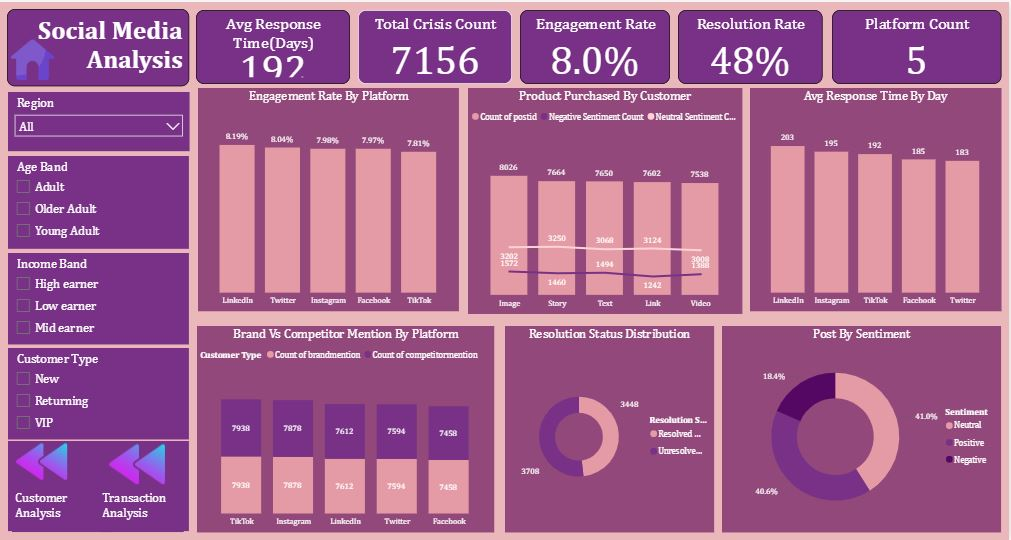

What the dashboard file says about the page in this screenshot:
{"tool":"powerbi","page":{"name":"Social Media Analysis Dashboard","canvas":[1500,800],"ordinal":3},"visuals":[{"type":"card","title":"Avg Response Time(Days)","fields":{"Values":["New Measures.Avg Response Days"]},"box":[291.9,11.3,229,109.7],"z":0},{"type":"card","title":"Total Crisis Count","fields":{"Values":["New Measures.Total Crisis Count"]},"box":[532.3,11.3,229,109.7],"z":1000},{"type":"card","title":"Engagement Rate","fields":{"Values":["New Measures.Engagement Rate"]},"box":[772.6,11.3,222.6,109.7],"z":2000},{"type":"card","title":"Resolution Rate","fields":{"Values":["New Measures.Crisis Resolution Rate %"]},"box":[1008.1,11.3,214.5,109.7],"z":3000},{"type":"card","title":"Platform Count","fields":{"Values":["New Measures.Platform Count"]},"box":[1237.1,11.3,251.6,109.7],"z":4000},{"type":"slicer","fields":{"Values":["public customerdata.region"]},"box":[11.5,134.3,270.2,88.4],"z":5000},{"type":"textbox","box":[10.8,10.8,271.3,115],"z":6000},{"type":"slicer","fields":{"Values":["public customerdata.Age Band"]},"box":[11.5,229.3,268.6,137.6],"z":7000},{"type":"slicer","fields":{"Values":["public customerdata.Income Band"]},"box":[11.5,373.4,268.6,135.9],"z":8000},{"type":"columnChart","title":"Engagement Rate By Platform","fields":{"Y":["New Measures.Engagement Rate"],"Category":["public socialmedia.platform"]},"box":[294.6,127.5,388,332.3],"z":9000},{"type":"columnChart","title":"Brand Vs  Competitor Mention By Platform","fields":{"Category":["public socialmedia.platform"],"Y":["CountNonNull(public socialmedia.brandmention)","CountNonNull(public socialmedia.competitormention)"]},"box":[292.8,481.4,441.9,307.2],"z":10000},{"type":"columnChart","title":"Avg Response Time By Day","fields":{"Category":["public socialmedia.platform"],"Y":["New Measures.Avg Response Days"]},"box":[1115.6,127.5,373.7,332.3],"z":11000},{"type":"lineStackedColumnComboChart","title":"Product Purchased By Customer","fields":{"Category":["public socialmedia.posttype"],"Y":["CountNonNull(public socialmedia.postid)"],"Y2":["New Measures.Negative Sentiment Count","New Measures.Neutral Sentiment Count"]},"box":[695.2,127.5,407.8,335.9],"z":12000},{"type":"donutChart","title":"Post By Sentiment","fields":{"Category":["public socialmedia.sentiment"],"Y":["Sum(public socialmedia.postid)"]},"box":[1074.3,481.4,415,307.2],"z":13000},{"type":"donutChart","title":"Resolution Status Distribution","fields":{"Y":["New Measures.Resolved Crisis Count","New Measures.Unresolved Crisis Count"]},"box":[750.9,481.4,310.8,307.2],"z":14000},{"type":"slicer","fields":{"Values":["public customerdata.customertype"]},"box":[11.5,514.2,268.6,135.9],"z":15000},{"type":"image","box":[8.2,44.2,78.6,83.5],"z":16000},{"type":"textbox","box":[11.5,653.4,268.6,134.3],"z":17000},{"type":"image","box":[13.1,635.4,96.6,96.6],"z":18000},{"type":"image","box":[147.4,635.4,113,104.8],"z":19000},{"type":"textbox","box":[18,720.5,145.7,67.1],"z":20000},{"type":"textbox","box":[147.4,720.5,126.1,67.1],"z":21000}]}

Visuals, with their boxes in screenshot pixels (x1, y1, x2, y2), scaled from the page's 1500x800 canvas onto the 1011x540 screenshot:
"Avg Response Time(Days)" card: crop(197, 8, 351, 82)
"Total Crisis Count" card: crop(359, 8, 513, 82)
"Engagement Rate" card: crop(521, 8, 671, 82)
"Resolution Rate" card: crop(679, 8, 824, 82)
"Platform Count" card: crop(834, 8, 1003, 82)
slicer - public customerdata.region: crop(8, 91, 190, 150)
textbox: crop(7, 7, 190, 85)
slicer - public customerdata.Age Band: crop(8, 155, 189, 248)
slicer - public customerdata.Income Band: crop(8, 252, 189, 344)
"Engagement Rate By Platform" columnChart: crop(199, 86, 460, 310)
"Brand Vs  Competitor Mention By Platform" columnChart: crop(197, 325, 495, 532)
"Avg Response Time By Day" columnChart: crop(752, 86, 1004, 310)
"Product Purchased By Customer" lineStackedColumnComboChart: crop(469, 86, 743, 313)
"Post By Sentiment" donutChart: crop(724, 325, 1004, 532)
"Resolution Status Distribution" donutChart: crop(506, 325, 716, 532)
slicer - public customerdata.customertype: crop(8, 347, 189, 439)
image: crop(6, 30, 59, 86)
textbox: crop(8, 441, 189, 532)
image: crop(9, 429, 74, 494)
image: crop(99, 429, 176, 500)
textbox: crop(12, 486, 110, 532)
textbox: crop(99, 486, 184, 532)
